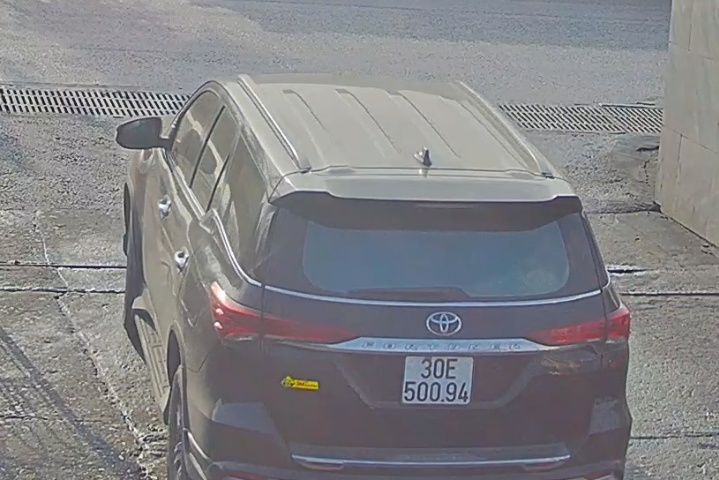vehicle plate: (392, 347, 480, 412)
